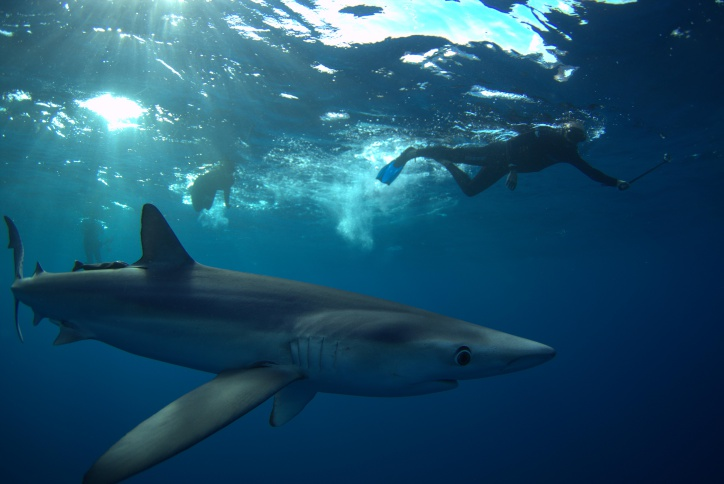Azul: (20, 207, 600, 484)
